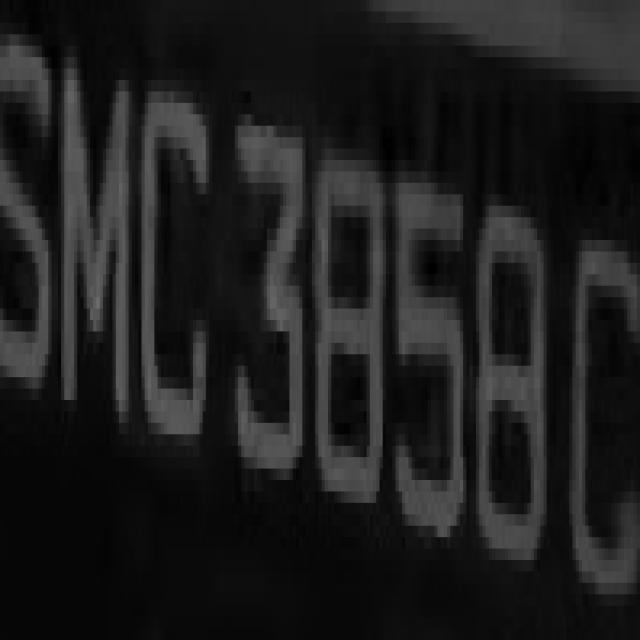3: (228, 57, 306, 503)
5: (392, 126, 463, 571)
8: (466, 183, 547, 594), (312, 114, 389, 526)
C: (563, 194, 640, 617), (142, 57, 216, 469)
M: (58, 46, 135, 446)
S: (6, 34, 58, 400)
